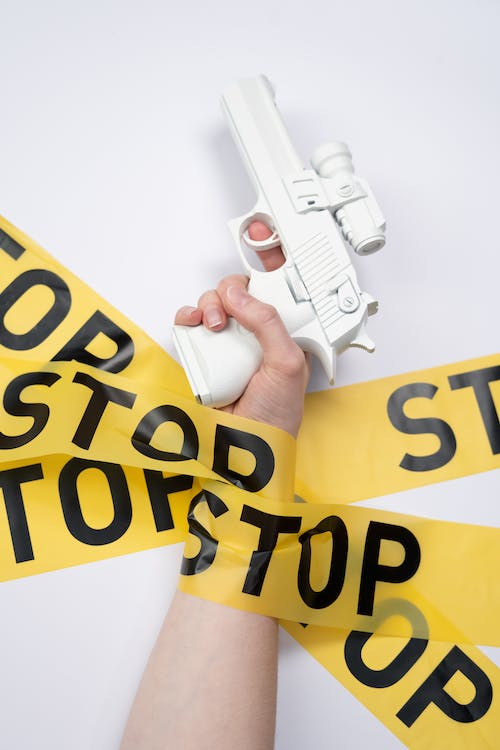gun: (174, 75, 389, 409)
